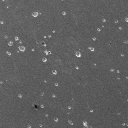corrosion: (74, 51, 83, 59), (31, 11, 39, 19), (18, 45, 26, 53), (42, 49, 51, 56), (81, 121, 90, 128), (51, 69, 58, 76), (53, 116, 60, 123), (32, 103, 39, 110), (67, 119, 74, 126), (16, 93, 23, 99), (88, 46, 95, 52), (101, 16, 107, 23), (39, 102, 45, 109), (5, 50, 12, 56), (41, 58, 49, 63), (7, 40, 13, 46), (61, 10, 67, 16), (113, 18, 119, 24), (26, 123, 33, 128), (95, 27, 101, 32), (53, 82, 59, 87), (91, 36, 97, 41), (67, 105, 72, 111), (109, 67, 114, 73), (90, 107, 95, 113), (120, 52, 125, 58), (51, 29, 56, 34), (74, 65, 79, 70), (14, 36, 19, 41), (124, 17, 128, 23), (30, 48, 36, 52), (43, 35, 47, 40), (118, 26, 123, 30), (51, 94, 55, 98)
